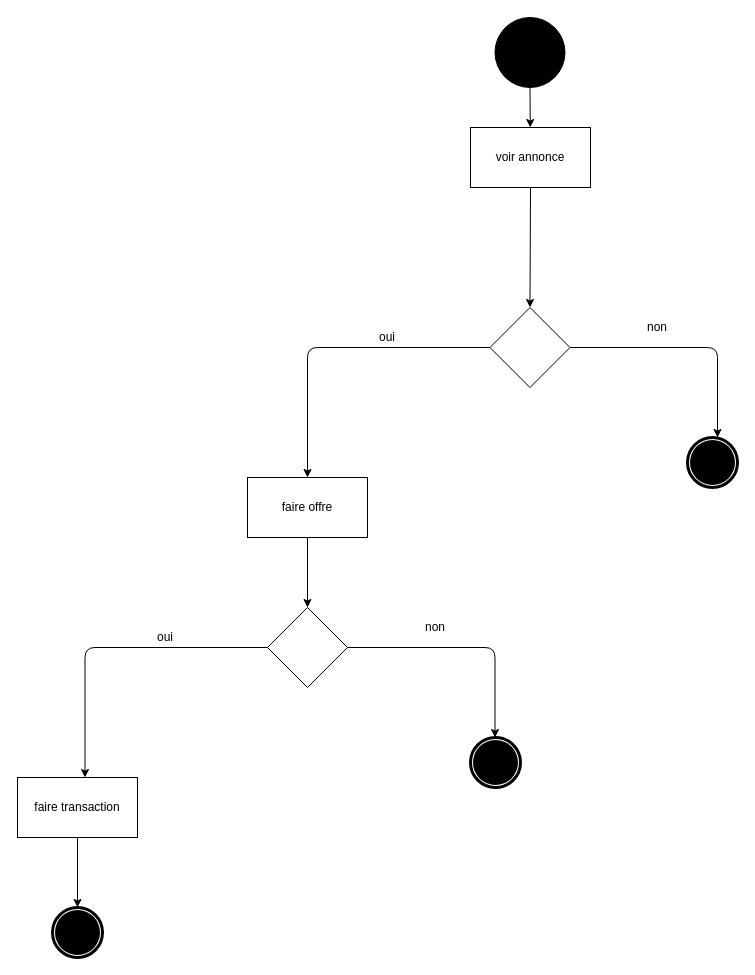
Some shapes in this 755 by 975 pixel diagram are drawn without their labels. The shapes that lost their labels are listed below. From the top down, each one's centre as x and y in pixels, then its label:
the point at 529,347: if offre m'interresse
the point at 307,647: le vendeur est ok
